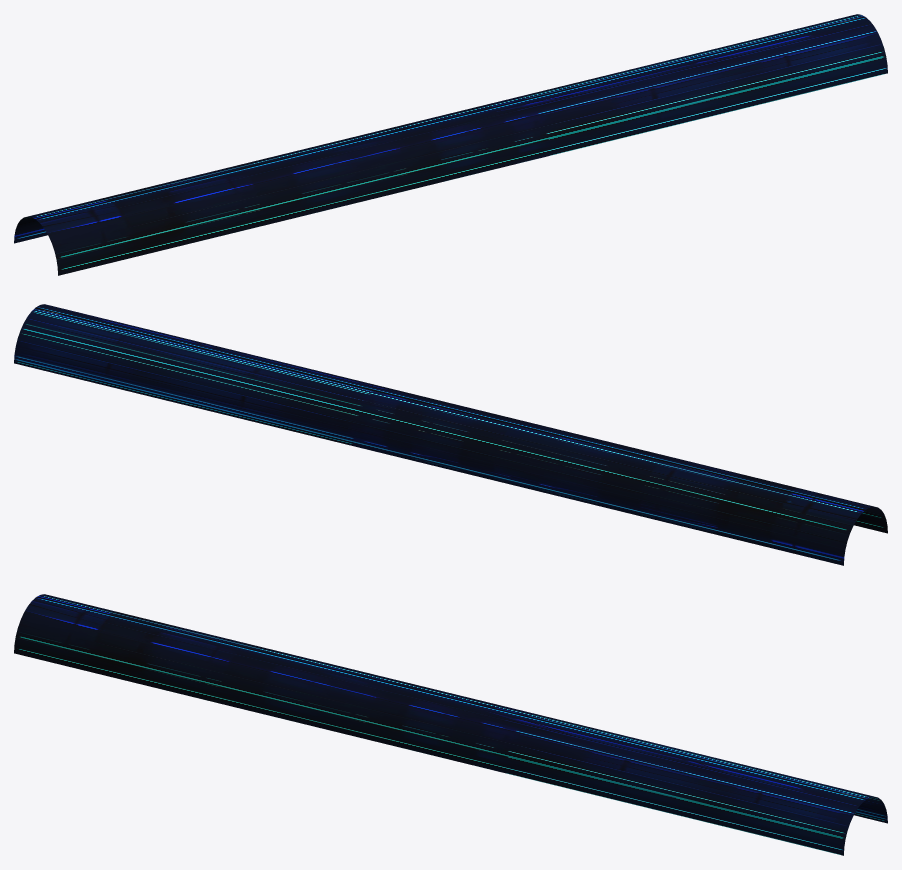
Rendered from pipeline.glb.
3 renders of one model, top to bottom at view 1: azimuth 30°, elevation 25°; view 2: azimuth 150°, elevation 25°; view 3: azimuth 330°, elevation 25°, orthographic.
Parts seen in each view (by area): view 1: pipeline; view 2: pipeline; view 3: pipeline.
Boxes of the visible parts, x1=… form: pipeline: x1=14, y1=14, x2=887, y2=275; pipeline: x1=14, y1=304, x2=887, y2=565; pipeline: x1=14, y1=594, x2=887, y2=855.
Bounding box in the file's own units: 262 × 12.08 × 24.15.
1 material, 1 textured.
